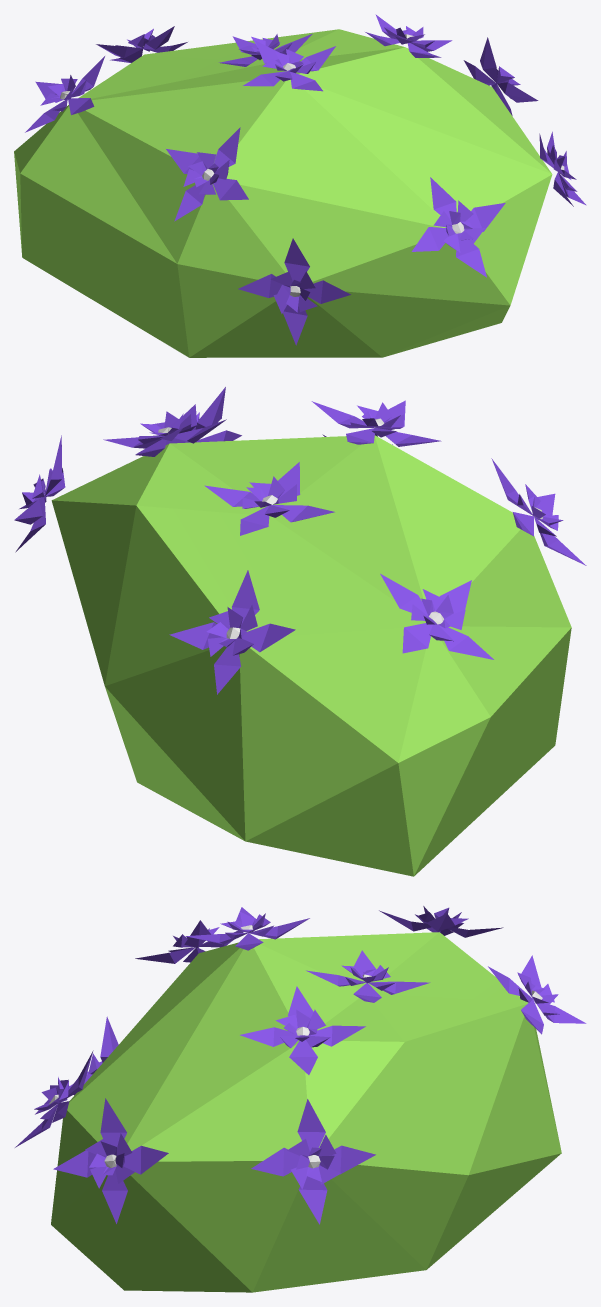
The model's file is bush_05.fbx.
3 views of the same model, one above another, from view 1: azimuth 30°, elevation 25°; view 2: azimuth 150°, elevation 25°; view 3: azimuth 270°, elevation 25° (orthographic). The views are drawn at different scales.
Parts seen in each view (by area): view 1: bush_05; view 2: bush_05; view 3: bush_05.
Part boxes in pixels (<box>): bush_05: <box>14,14,586,357</box>; bush_05: <box>14,387,586,876</box>; bush_05: <box>15,906,586,1292</box>.
Bounding box in the file's own units: 46.39 × 27.06 × 47.73.
